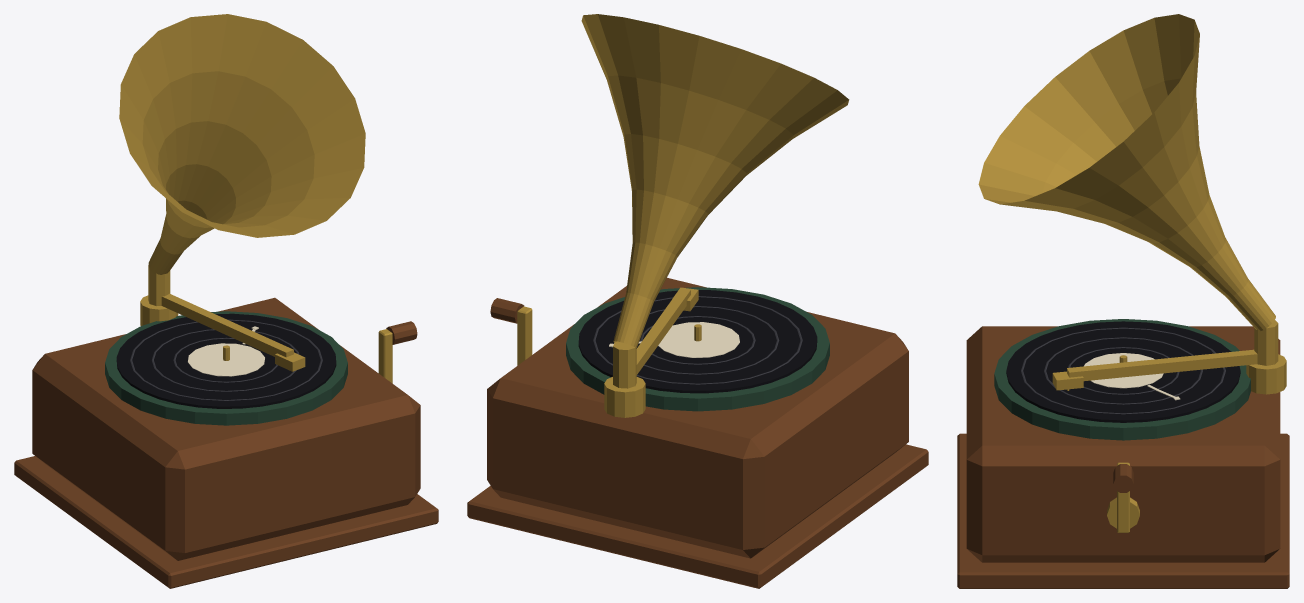
File: Prop_YTM_RecordPlayer_Scratched.glb
The picture shows the model from 3 angles, left to right: view 1: azimuth 30°, elevation 25°; view 2: azimuth 150°, elevation 25°; view 3: azimuth 270°, elevation 25°; orthographic projection. The views are drawn at different scales.
Visible parts, largest first — view 1: Prop_YTM_RecordPlayer_Scratched, Prop_YTM_RecordPlayer_Scratched_Record, Prop_YTM_RecordPlayer_Scratched_Crank; view 2: Prop_YTM_RecordPlayer_Scratched, Prop_YTM_RecordPlayer_Scratched_Record, Prop_YTM_RecordPlayer_Scratched_Crank; view 3: Prop_YTM_RecordPlayer_Scratched, Prop_YTM_RecordPlayer_Scratched_Record, Prop_YTM_RecordPlayer_Scratched_Crank.
Boxes of the visible parts, left/top/right/bottom form: Prop_YTM_RecordPlayer_Scratched: left=14, top=14, right=438, bottom=588; Prop_YTM_RecordPlayer_Scratched_Record: left=116, top=313, right=336, bottom=408; Prop_YTM_RecordPlayer_Scratched_Crank: left=378, top=321, right=417, bottom=383; Prop_YTM_RecordPlayer_Scratched: left=467, top=14, right=928, bottom=588; Prop_YTM_RecordPlayer_Scratched_Record: left=578, top=290, right=817, bottom=393; Prop_YTM_RecordPlayer_Scratched_Crank: left=490, top=298, right=532, bottom=365; Prop_YTM_RecordPlayer_Scratched: left=957, top=14, right=1289, bottom=588; Prop_YTM_RecordPlayer_Scratched_Record: left=1006, top=321, right=1240, bottom=422; Prop_YTM_RecordPlayer_Scratched_Crank: left=1113, top=462, right=1133, bottom=532.
Size of what is drawn, in the model's own units: 0.428 by 0.581 by 0.36.
